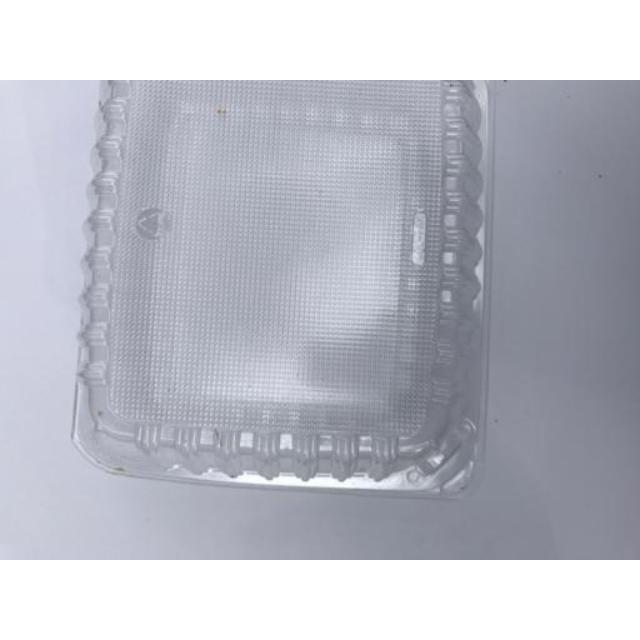plastic: (71, 80, 497, 495)
